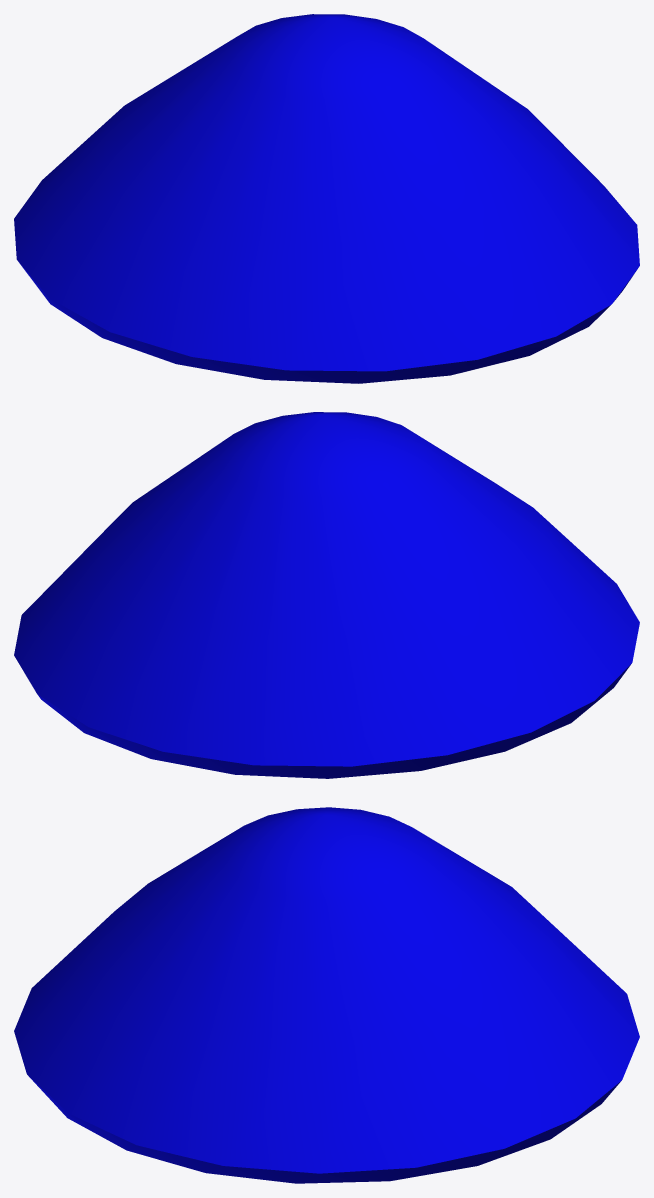
Rendered from propeller_cover5.fbx.
The picture shows the model from 3 angles, top to bottom: view 1: azimuth 30°, elevation 25°; view 2: azimuth 150°, elevation 25°; view 3: azimuth 270°, elevation 25°; orthographic projection.
Parts seen in each view (by area): view 1: polySurface22; view 2: polySurface22; view 3: polySurface22.
Part boxes in pixels (box(x1,y1,x2,y2)): polySurface22: box(14, 14, 639, 383); polySurface22: box(14, 412, 639, 778); polySurface22: box(14, 807, 639, 1183).
Bounding box in the file's own units: 0.6036 × 0.2612 × 0.6038.
